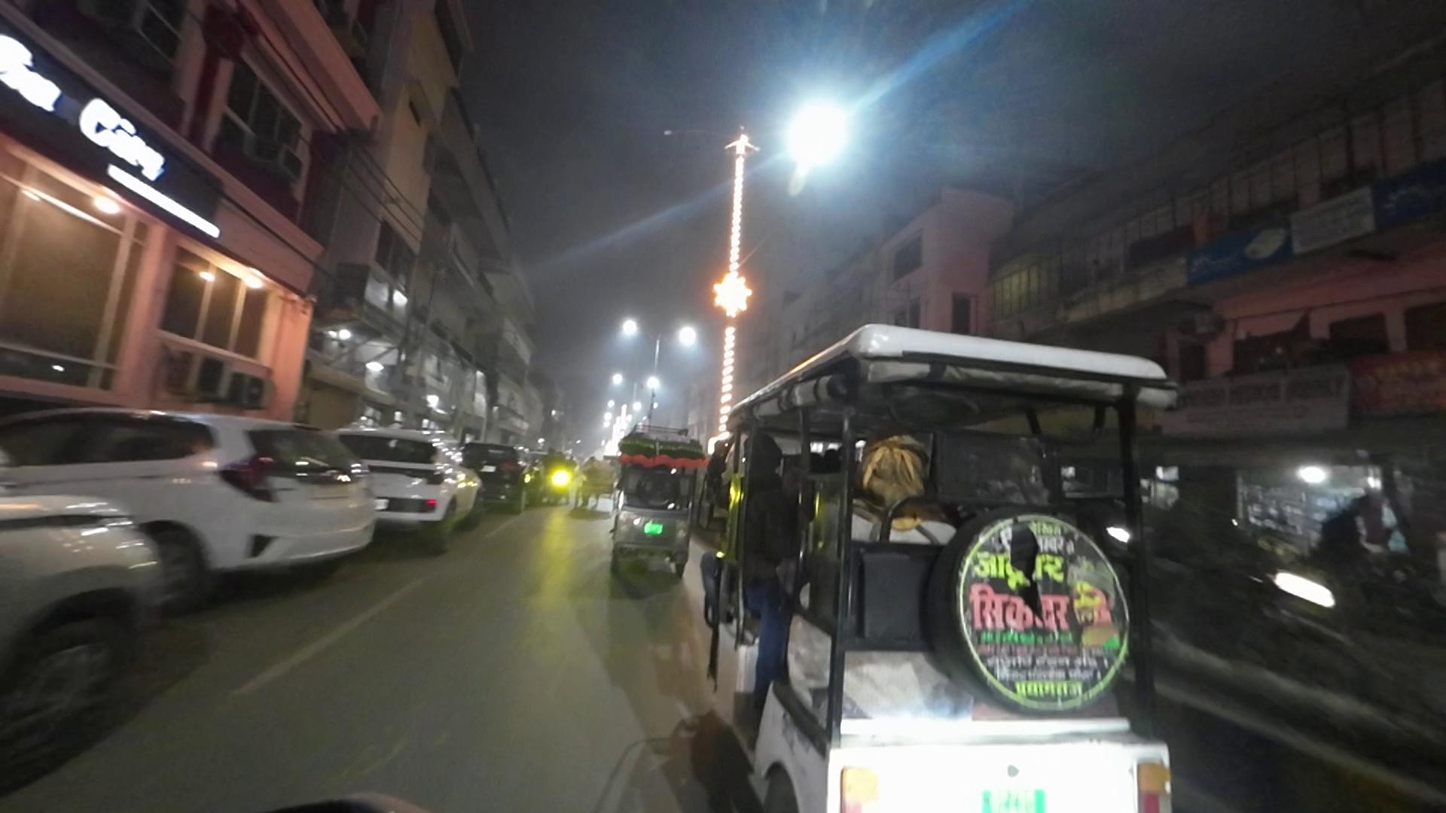streetlight: (656, 121, 726, 146)
